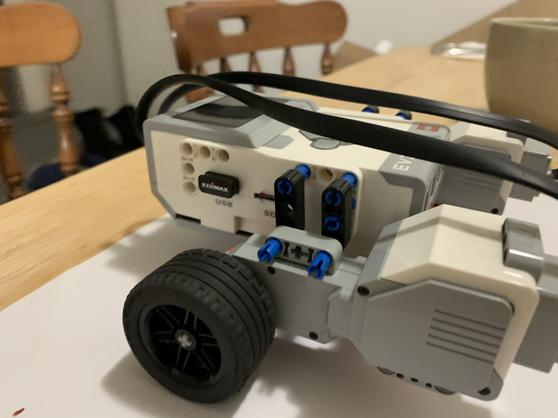robot: (112, 65, 558, 418)
